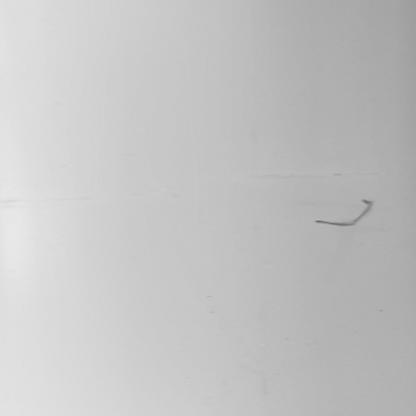fengxi: (310, 198, 380, 227)
